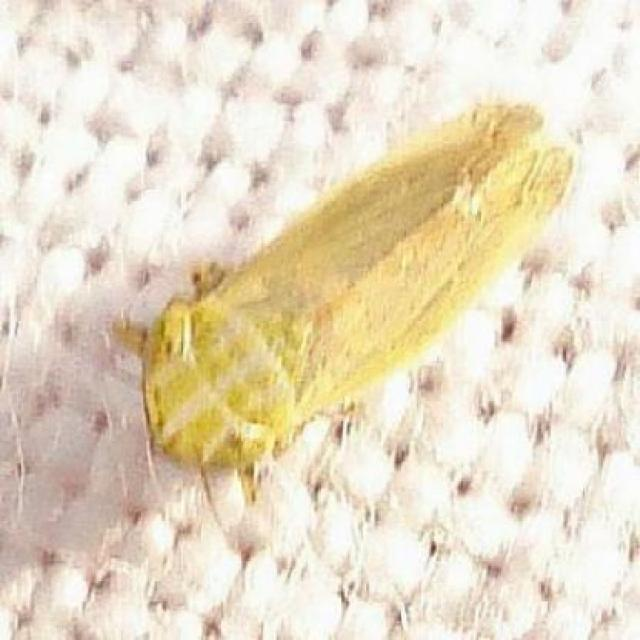green-leafhopper: (146, 96, 588, 496)
